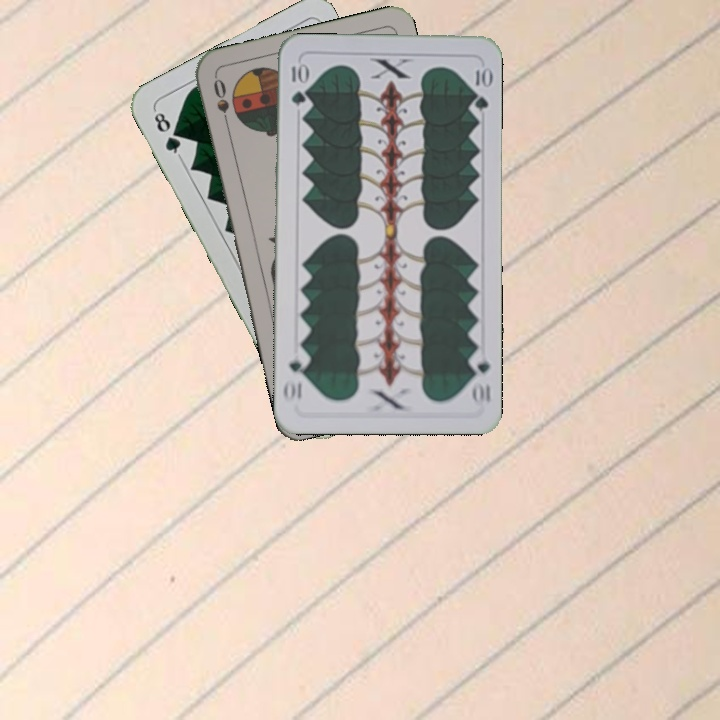G10: (466, 349, 493, 408), (287, 59, 308, 109)
G8: (150, 106, 184, 160)
SO: (209, 74, 233, 132)
